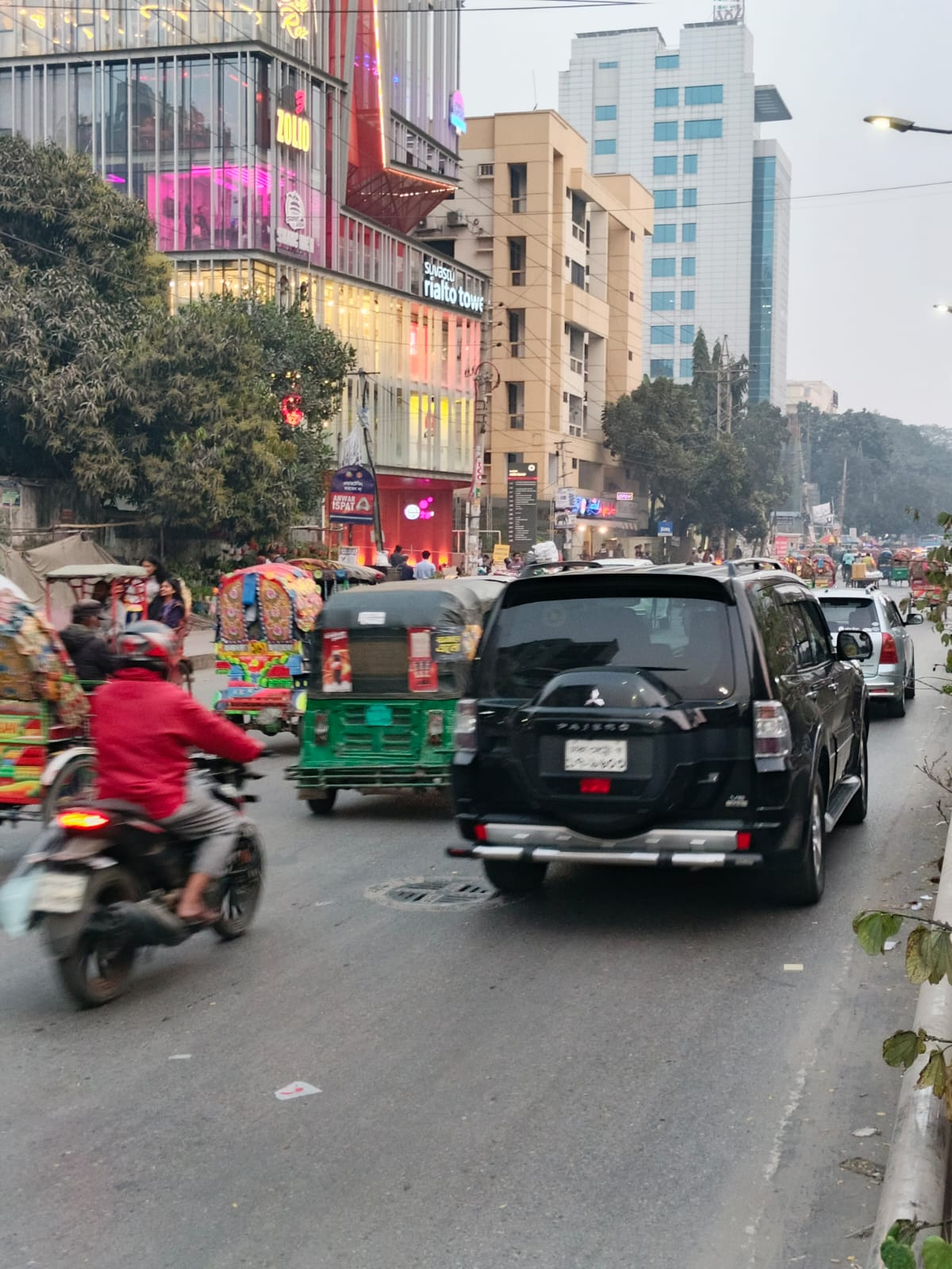Bikes: (21, 603, 300, 1060)
auto-ricksaw: (0, 535, 173, 707), (185, 556, 341, 745)
cng: (297, 540, 495, 879)
private car: (473, 511, 859, 978), (807, 545, 952, 729)
